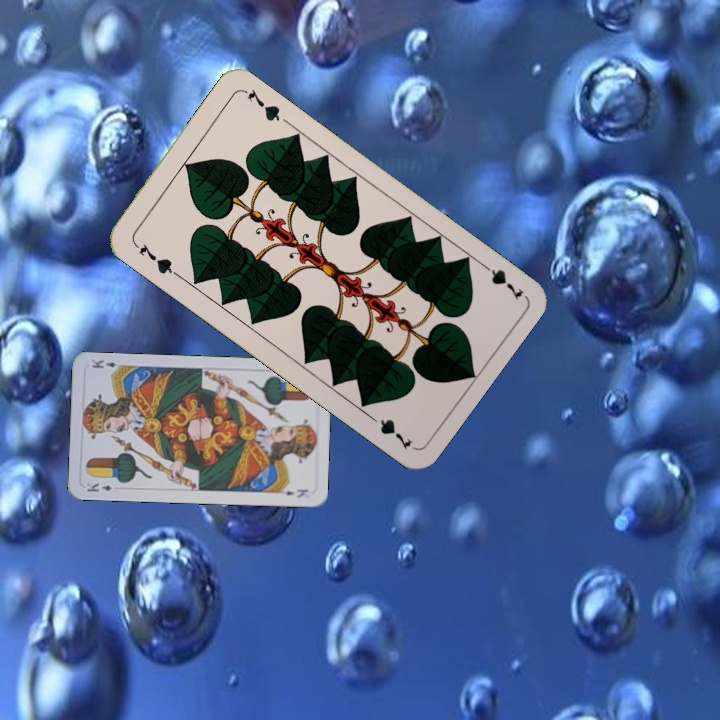EK: (83, 479, 115, 494)
G7: (475, 257, 527, 303), (130, 238, 181, 279)
